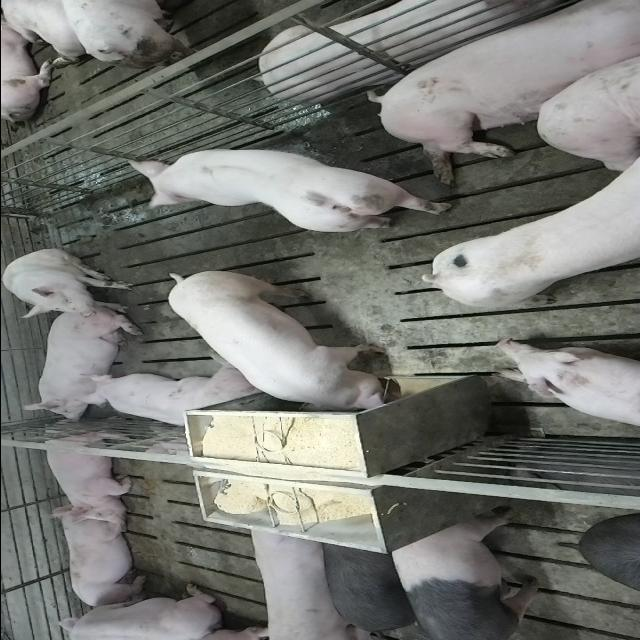Feeding: (165, 274, 399, 422)
Lateral_lying: (368, 2, 640, 184), (256, 0, 596, 103)
Sitting: (2, 248, 136, 320)
Standing: (422, 132, 640, 318), (122, 144, 459, 232), (384, 514, 548, 639), (242, 518, 368, 638), (318, 538, 420, 638)
Sternal_lying: (492, 339, 640, 433), (24, 314, 134, 425), (78, 366, 264, 430), (44, 584, 228, 637), (52, 510, 148, 609), (37, 425, 135, 521)
